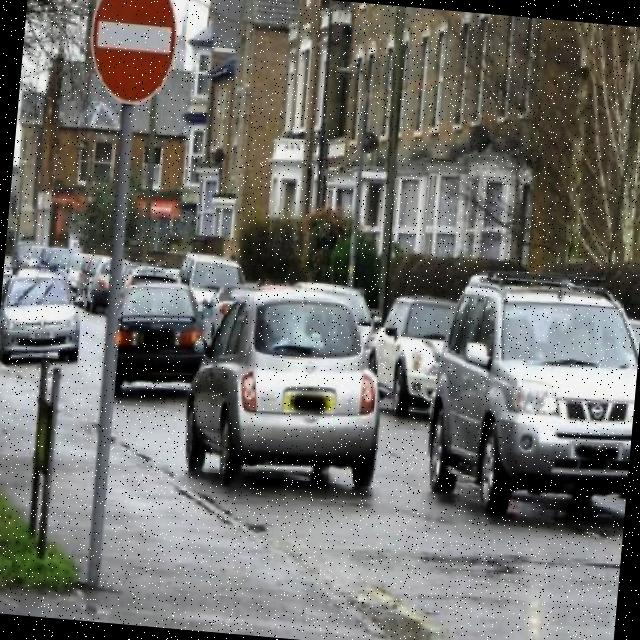Zakaz wjazdu: (82, 0, 185, 111)
